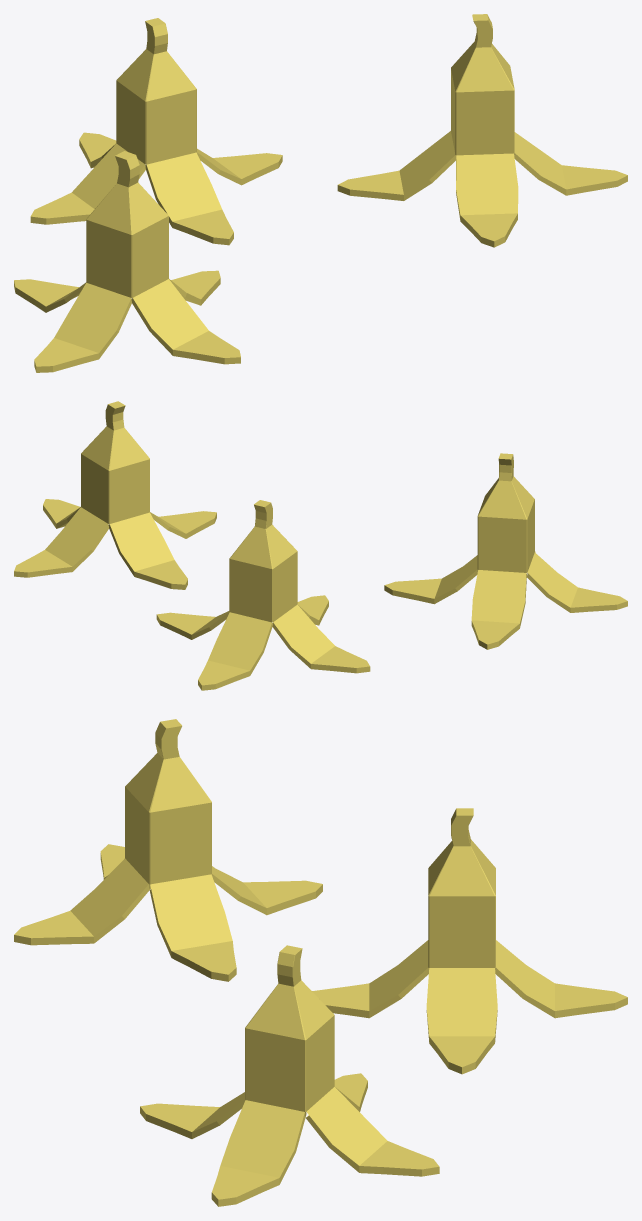
The model's file is Banana.fbx.
3 views of the same model, one above another, from view 1: azimuth 30°, elevation 25°; view 2: azimuth 150°, elevation 25°; view 3: azimuth 270°, elevation 25° (orthographic). The views are drawn at different scales.
Parts seen in each view (by area): view 1: banana2.001, banana1, banana2; view 2: banana2, banana1, banana2.001; view 3: banana2, banana2.001, banana1.
Part boxes in pixels (x1,y1,x2,y2): banana2.001: (14,151,240,372); banana1: (30,18,282,245); banana2: (337,14,627,247); banana2: (14,401,216,589); banana1: (156,500,370,690); banana2.001: (384,453,627,649); banana2: (140,945,439,1206); banana2.001: (14,719,322,981); banana1: (312,808,627,1074).
Size of the model in its own units: 284 by 71.55 by 207.
